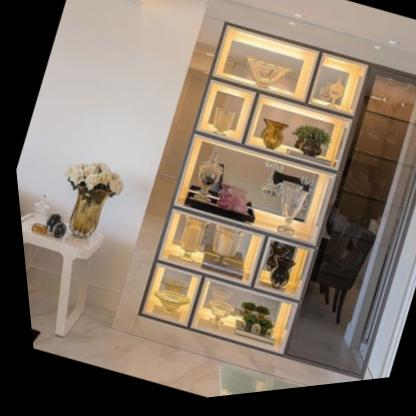Cupboard: (131, 6, 416, 387)
